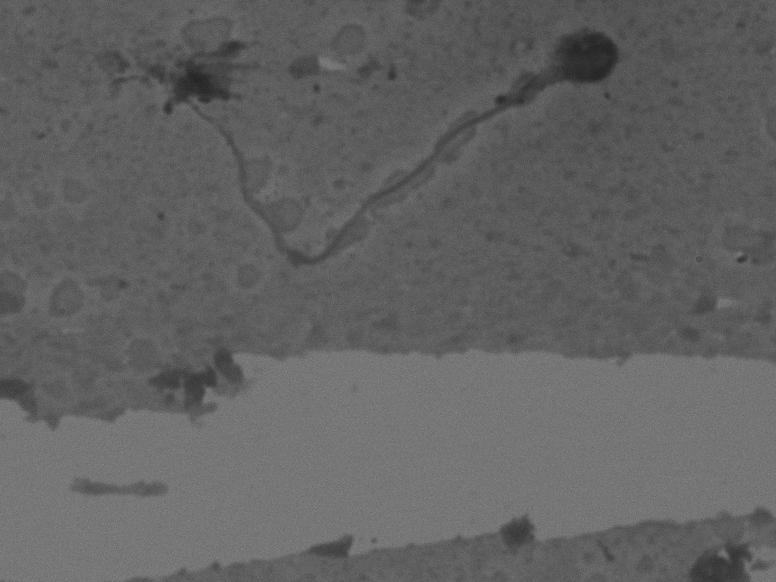Abnormal: (110, 14, 643, 287)
